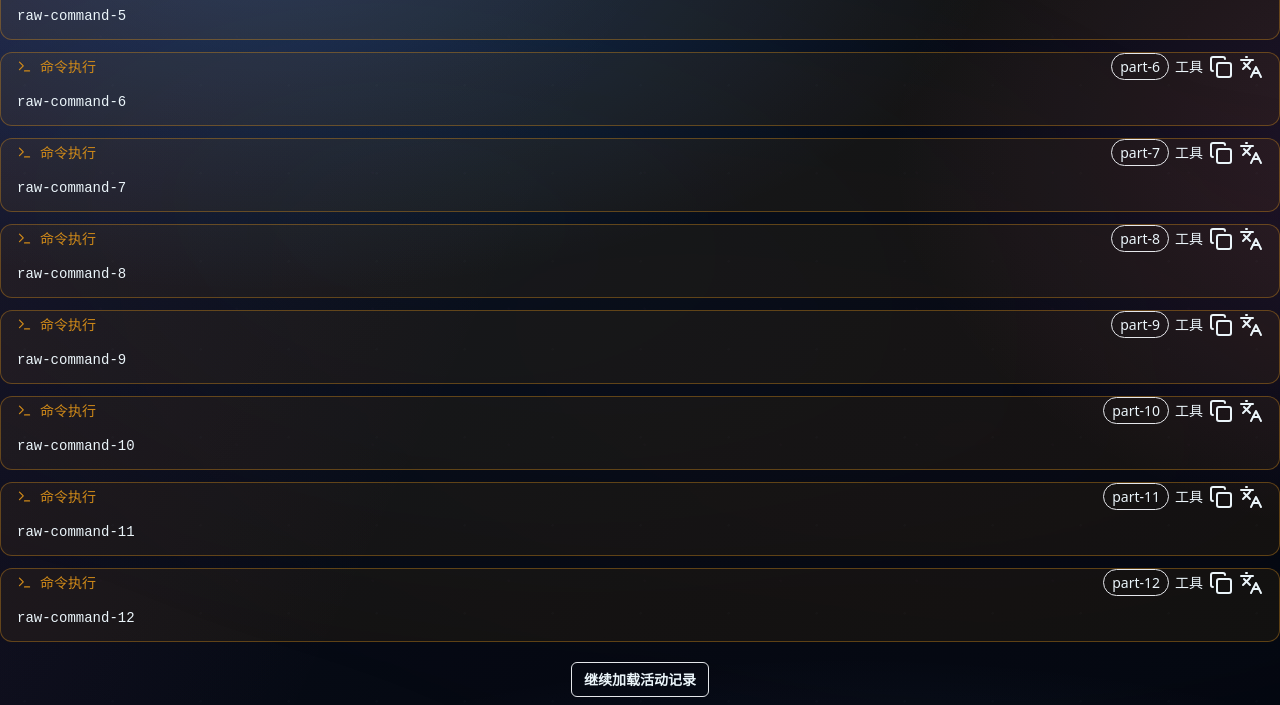
Scenario: ConversationContentCards › projects and mounts only the visible activity batch inside a very large Turn
(page scrolled)
Expected: the text "raw-command-12" is shown, [17,610,135,626]
Expected: the text "raw-command-13" is not shown
Click the button "继续加载活动记录". click: [640, 680]
box: [571,662,709,697]
(page scrolled)
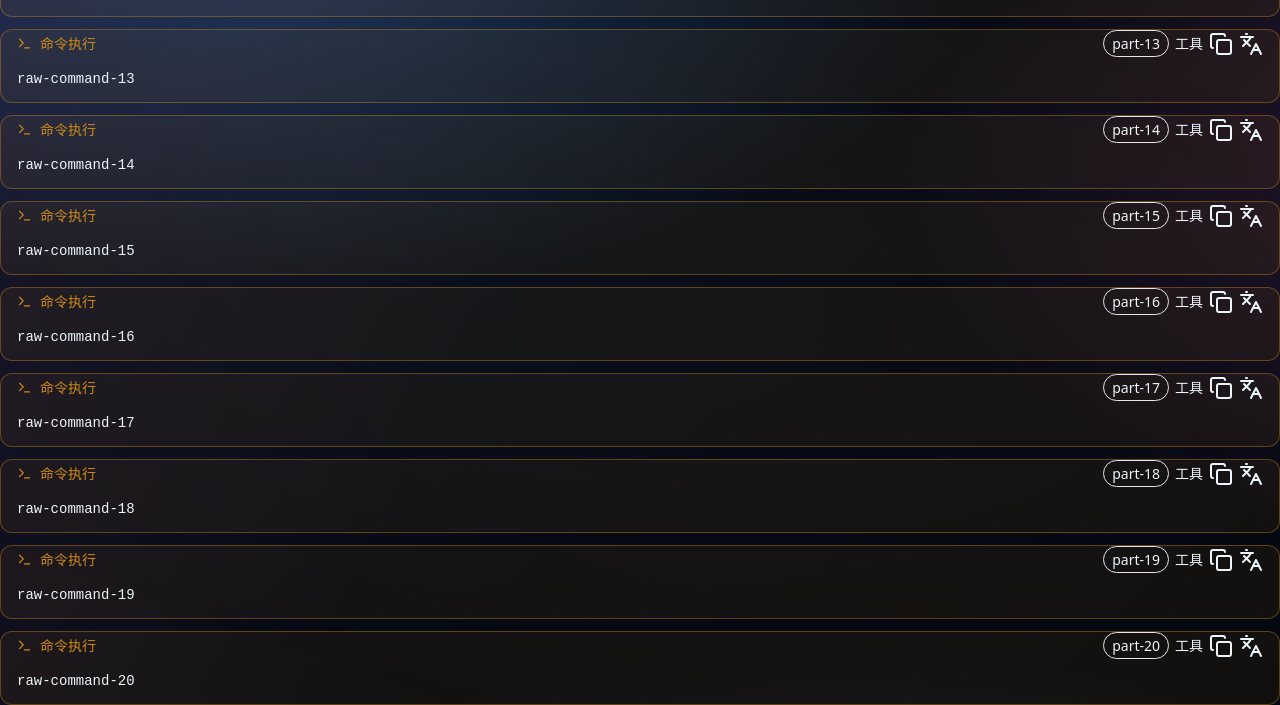
Result: the text "raw-command-20" is shown at [17,673,135,689]
